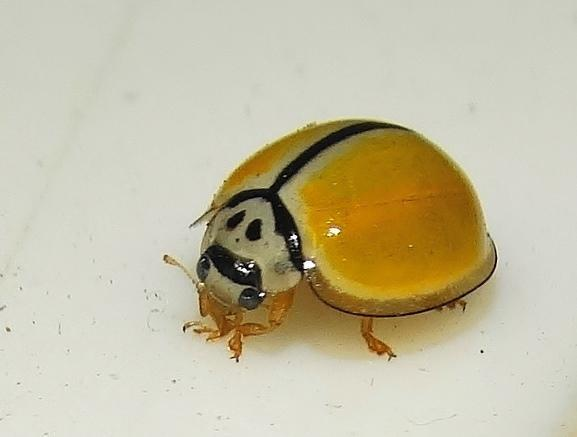ladybug: (161, 116, 501, 366)
